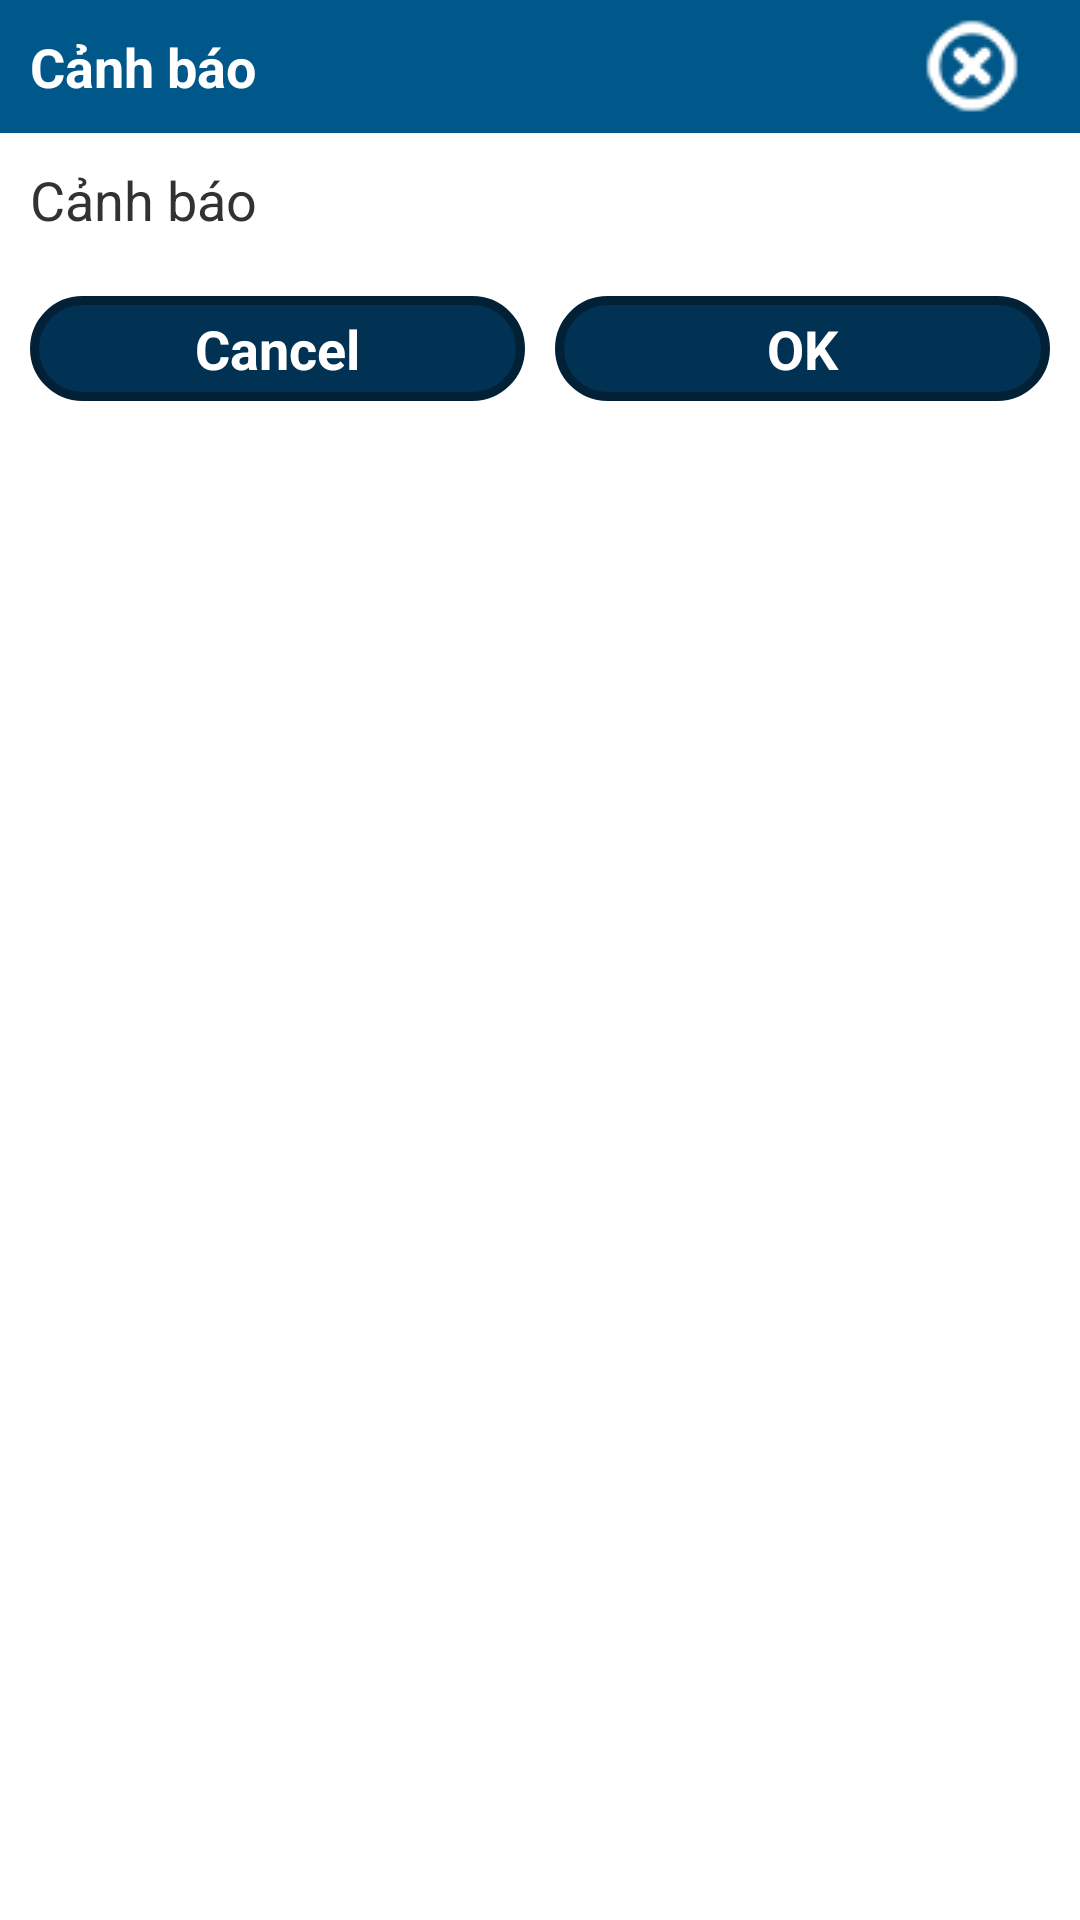

Icon click points for this 1080w x 1920h phone screenshot, format [x,y]:
gcs close: [972,66]
